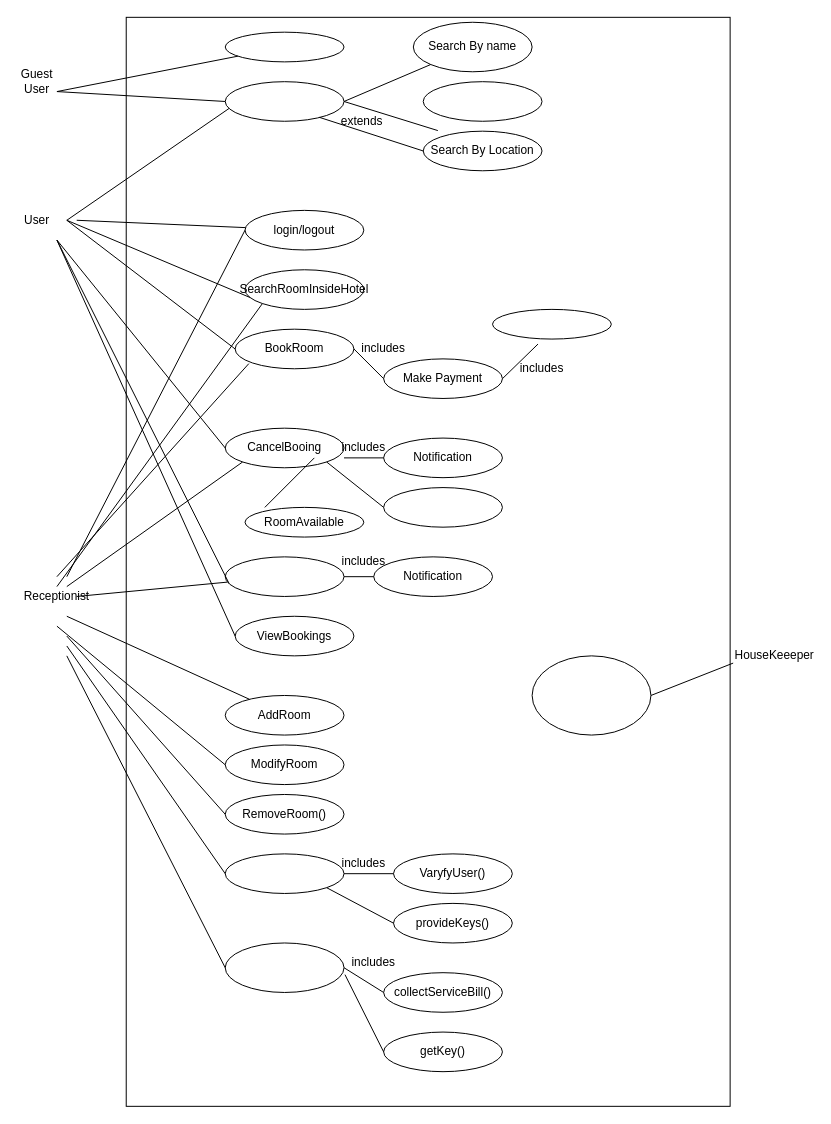
The diagram is 831 pixels wide and 1124 high, and some of its shapes have lost their labels. Each missing label, with the centre of its shape:
applyCoupen: point 551,323
CheckIn: point 284,873
CheckOut: point 284,967
ProvideService and Maintainlogs: point 591,695
Refund: point 442,507
Register: point 284,46
Search: point 284,101
Search By Hotel Brand: point 482,101
updateBookings: point 284,576
